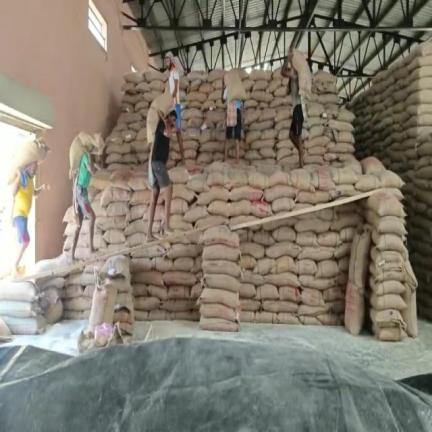Zone-Counting: (7, 139, 49, 273), (146, 92, 177, 241), (70, 132, 101, 259), (281, 49, 312, 167), (223, 70, 245, 160)
